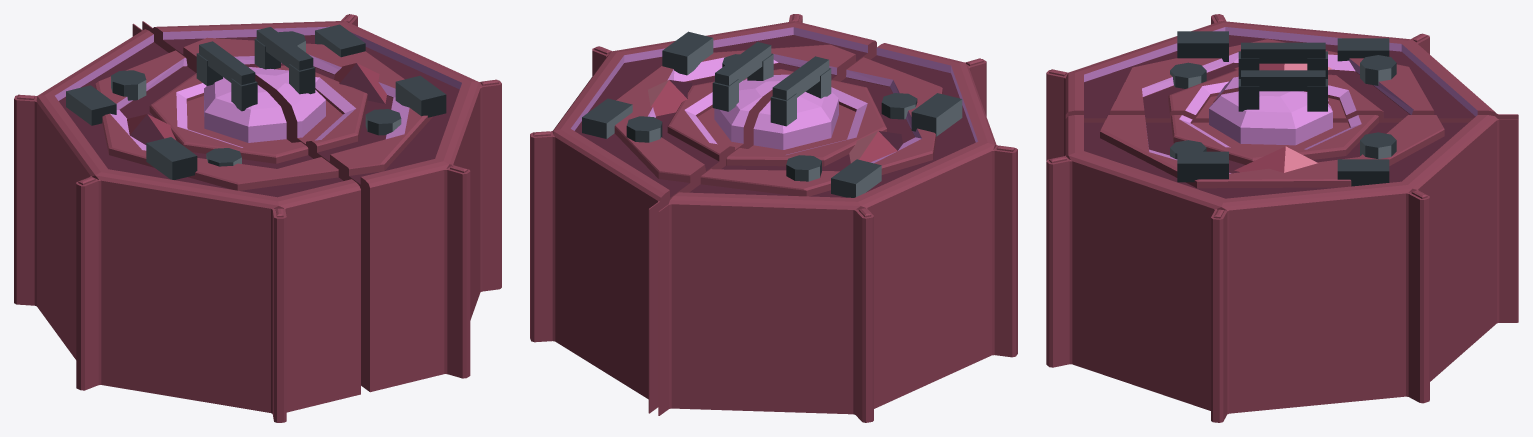
The model's file is reidite_door.fbx.
3 renders of one model, left to right at view 1: azimuth 30°, elevation 25°; view 2: azimuth 150°, elevation 25°; view 3: azimuth 270°, elevation 25°, orthographic.
Parts seen in each view (by area): view 1: reidite_door_panel_left, reidite_door_panel_right; view 2: reidite_door_panel_left, reidite_door_panel_right; view 3: reidite_door_panel_right, reidite_door_panel_left.
Part boxes in pixels (x1,y1,x2,y2): reidite_door_panel_left: [14, 23, 360, 422]; reidite_door_panel_right: [142, 14, 501, 392]; reidite_door_panel_left: [658, 43, 1017, 422]; reidite_door_panel_right: [530, 14, 876, 413]; reidite_door_panel_right: [1046, 70, 1518, 422]; reidite_door_panel_left: [1046, 14, 1518, 160].
Size of the model in its own units: 4.25 by 2.51 by 4.13.
1 material, 1 textured.
